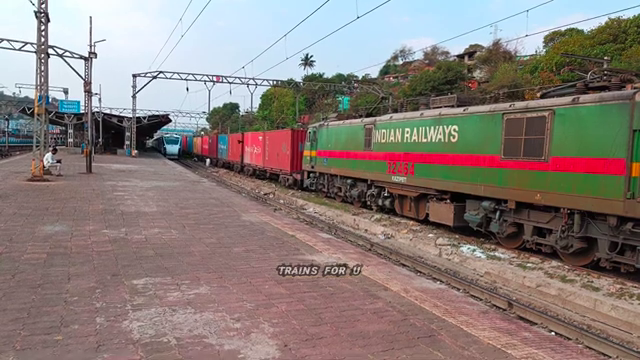Engine: (380, 155, 419, 179)
